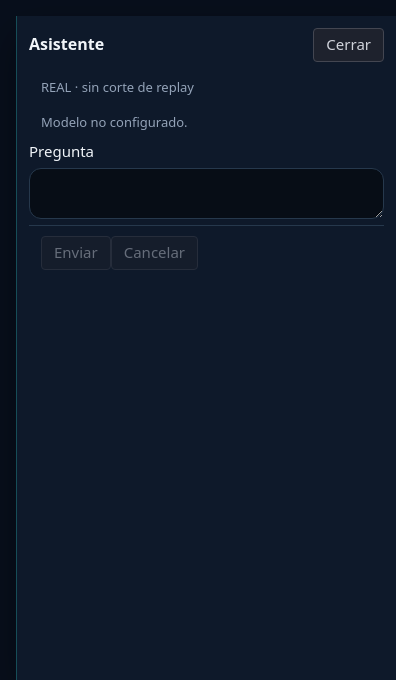
Scenario: asistente › muestra la respuesta de herramientas cuando el modelo no está
The width and height of the screenshot is (396, 680).
Check: the text "Modelo no configurado." is shown, box left=41, top=113, right=188, bottom=131
Type "¿Cuál es la tendencia?" into the text box named "Pregunta al asistente" at x=206, y=194, box left=29, top=168, right=384, bottom=219
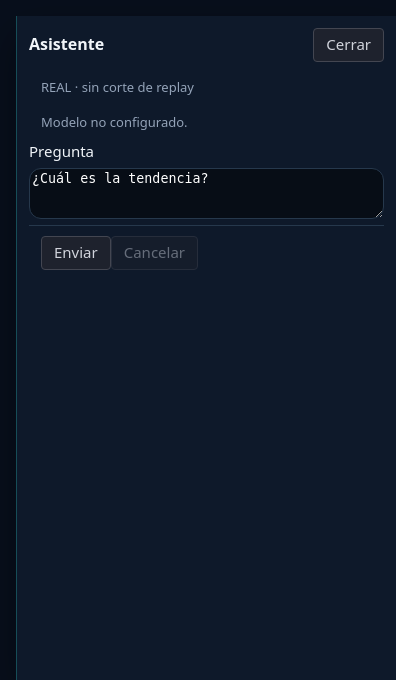
Click the button "Enviar" at x=76, y=253, box left=41, top=236, right=111, bottom=270
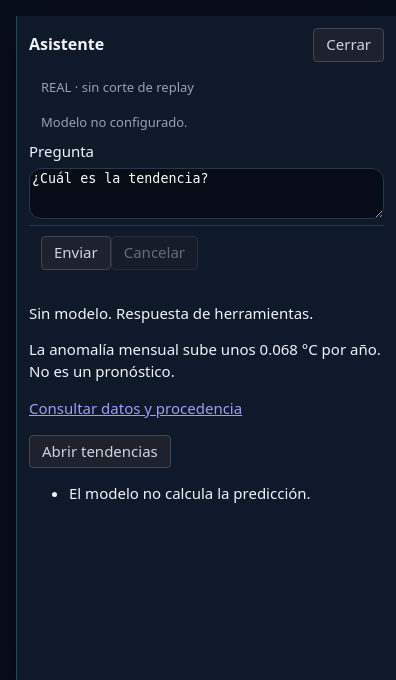
Check: the text "0.068" is shown, box left=29, top=339, right=381, bottom=381
Check: the text "Sin modelo. Respuesta de herramientas." is shown, box left=29, top=302, right=313, bottom=322
